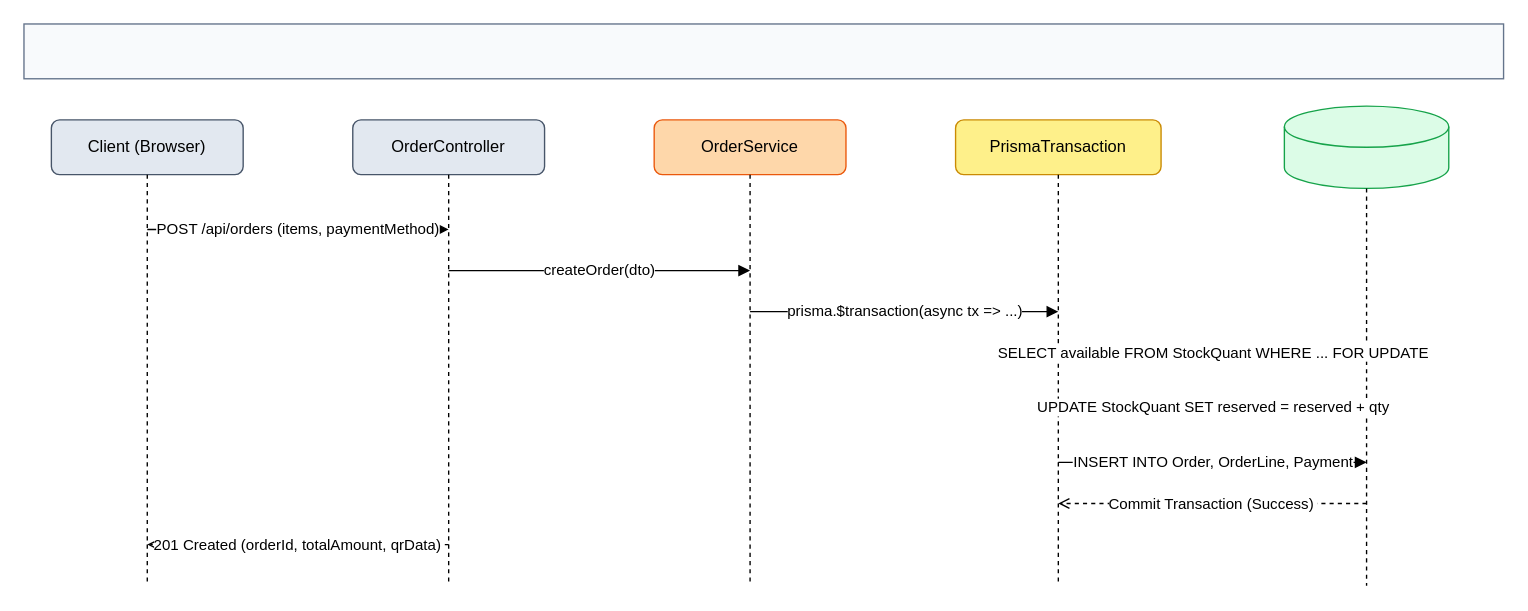
The diagram is 1528 pixels wide and 611 high, and some of its shapes have lost their labels. Each missing label, with the centre of its shape:
PostgreSQL DB: the point at 1366,146
SƠ ĐỒ TUẦN TỰ TRANSACTION TẠO ĐƠN VÀ GIỮ TỒN KHO AN TOÀN (CONCURRENCY SAFE): the point at 763,51
